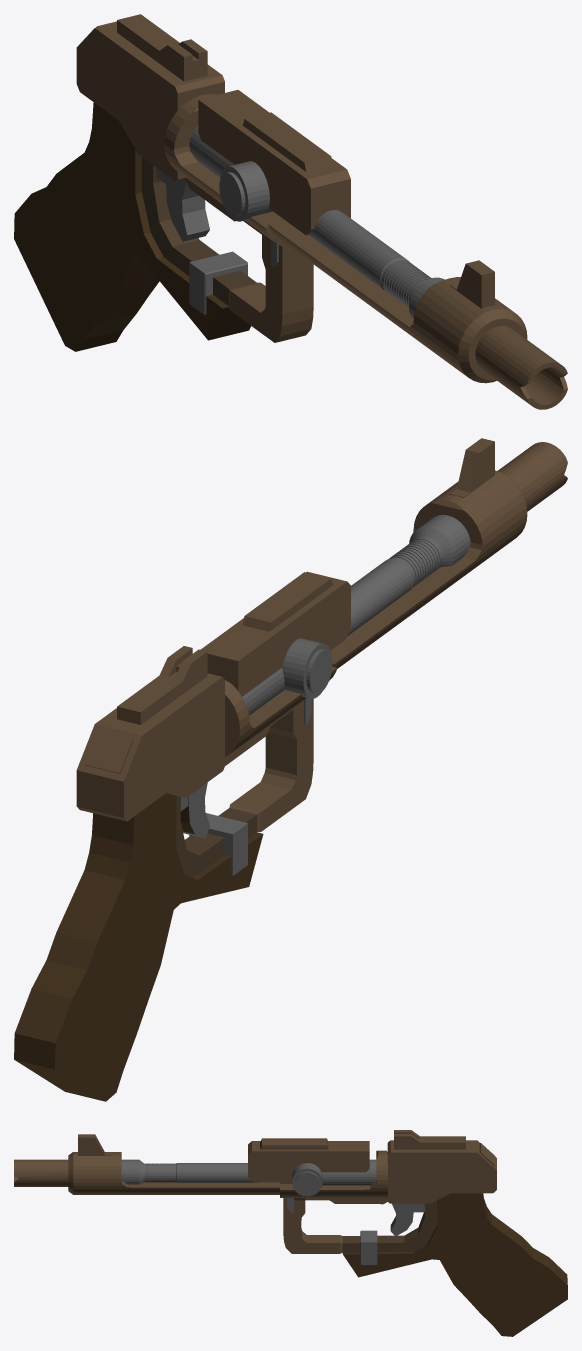
The model's file is scrapgun.fbx.
The picture shows the model from 3 angles, top to bottom: view 1: azimuth 30°, elevation 25°; view 2: azimuth 150°, elevation 25°; view 3: azimuth 270°, elevation 25°; orthographic projection. The views are drawn at different scales.
Visible parts, largest first — view 1: Cube; view 2: Cube; view 3: Cube.
Boxes of the visible parts, bbox=[...] form: Cube: bbox=[14, 14, 567, 409]; Cube: bbox=[14, 438, 567, 1101]; Cube: bbox=[14, 1130, 567, 1336].
Bounding box in the file's own units: 161 × 622 × 1574.
